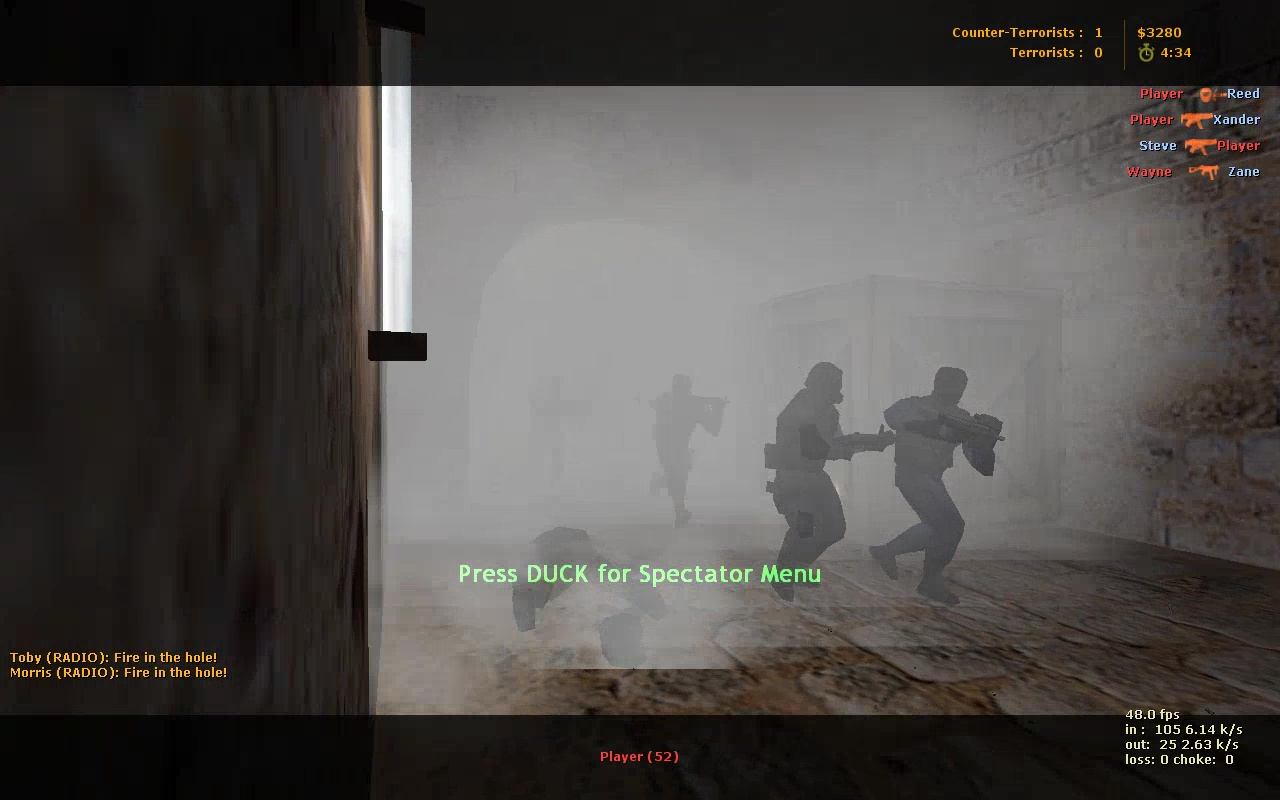ct: (763, 362, 890, 592), (874, 370, 1000, 601), (631, 380, 729, 522)
dead: (512, 528, 677, 631)
